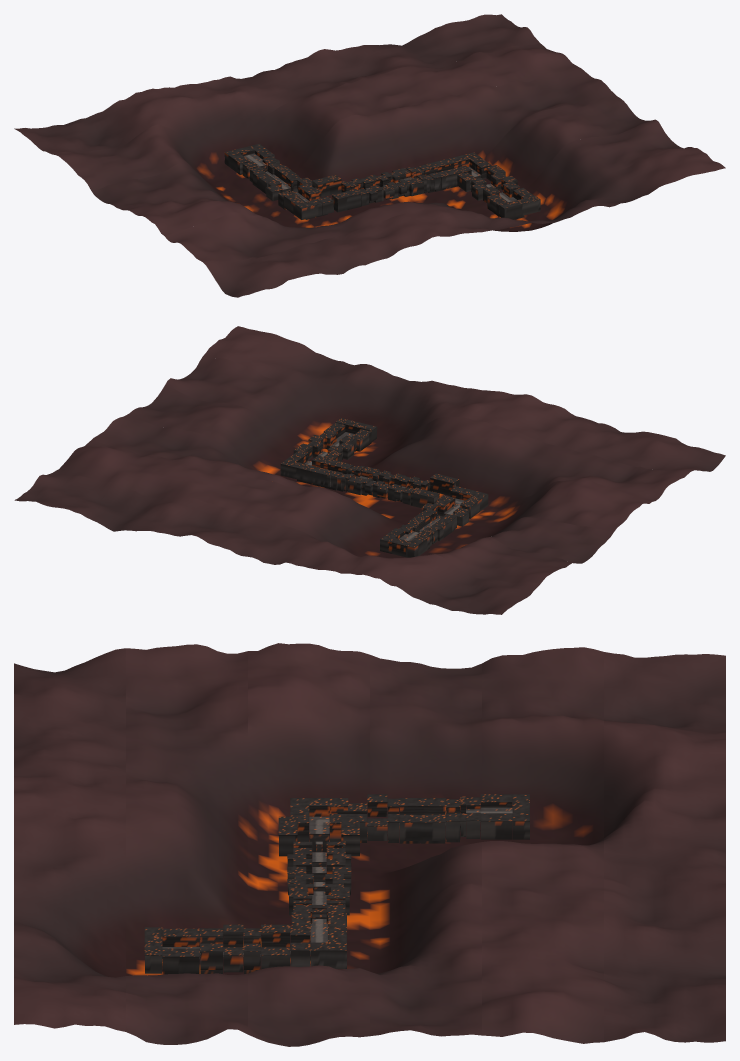
File: magma_falls_terrain.glb
3 renders of one model, top to bottom at view 1: azimuth 30°, elevation 25°; view 2: azimuth 150°, elevation 25°; view 3: azimuth 270°, elevation 25°, orthographic. The views are drawn at different scales.
Visible parts, largest first — view 1: backdrop_5, backdrop_3, backdrop_4, backdrop_0, backdrop_1, backdrop_2, terrain_I, terrain_H, terrain_G, terrain_F, terrain_D, terrain_A (+3 smaller); view 2: backdrop_0, backdrop_1, backdrop_5, backdrop_4, backdrop_2, backdrop_3, terrain_I, terrain_D, terrain_H, terrain_F, terrain_G, terrain_B (+3 smaller); view 3: backdrop_5, backdrop_4, backdrop_1, backdrop_0, backdrop_3, backdrop_2, terrain_I, terrain_H, terrain_B, terrain_G, terrain_D, terrain_F (+3 smaller).
Boxes of the visible parts, box(x1,y1,x2,y2) form: backdrop_5: box(14, 14, 539, 154); backdrop_3: box(91, 67, 613, 216); backdrop_4: box(53, 43, 577, 191); backdrop_0: box(203, 147, 725, 297); backdrop_1: box(164, 119, 689, 262); backdrop_2: box(126, 93, 651, 235); terrain_I: box(224, 143, 298, 193); terrain_H: box(266, 176, 322, 219); terrain_G: box(310, 175, 361, 216); terrain_F: box(347, 172, 409, 206); terrain_D: box(418, 152, 484, 192); terrain_A: box(487, 188, 540, 219); backdrop_0: box(203, 326, 725, 471); backdrop_1: box(164, 356, 690, 502); backdrop_5: box(14, 473, 539, 614); backdrop_4: box(53, 440, 574, 583); backdrop_2: box(126, 386, 651, 539); backdrop_3: box(91, 415, 613, 563); terrain_I: box(380, 511, 453, 557); terrain_D: box(280, 455, 353, 491); terrain_H: box(421, 489, 488, 529); terrain_F: box(362, 470, 424, 504); terrain_G: box(410, 473, 466, 507); terrain_B: box(308, 430, 356, 459); backdrop_5: box(604, 652, 725, 1042); backdrop_4: box(482, 647, 603, 1043); backdrop_1: box(126, 644, 247, 1044); backdrop_0: box(14, 648, 125, 1031); backdrop_3: box(370, 655, 481, 1036); backdrop_2: box(248, 643, 369, 1046); terrain_I: box(399, 794, 529, 843); terrain_H: box(290, 794, 399, 842); terrain_B: box(200, 924, 260, 973); terrain_G: box(278, 814, 359, 856); terrain_D: box(291, 907, 346, 968); terrain_F: box(287, 848, 351, 895).
Bounding box in the file's own units: 616 × 65.9 × 490.
